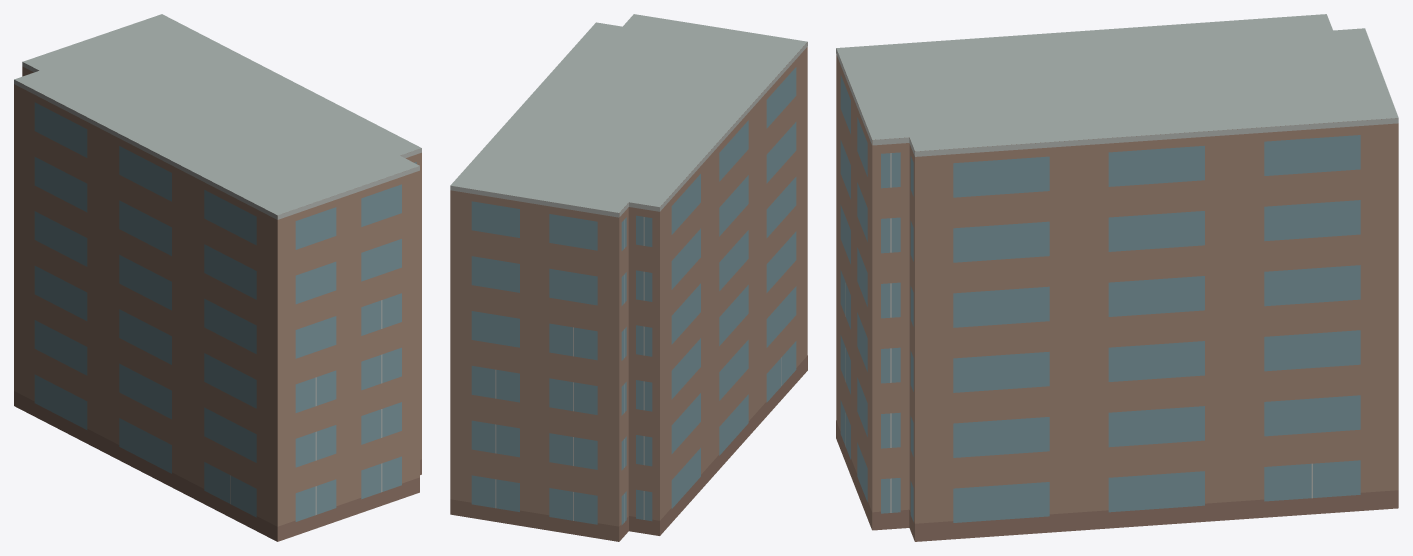
Rendered from survey-upis-32960754.glb.
3 views of the same model, side by side, from view 1: azimuth 30°, elevation 25°; view 2: azimuth 150°, elevation 25°; view 3: azimuth 270°, elevation 25° (orthographic). The views are drawn at different scales.
Parts seen in each view (by area): view 1: survey-upis-32960754.tmp; view 2: survey-upis-32960754.tmp; view 3: survey-upis-32960754.tmp.
Part boxes in pixels (box(x1,y1,x2,y2)): survey-upis-32960754.tmp: box(14, 14, 421, 541); survey-upis-32960754.tmp: box(450, 14, 807, 541); survey-upis-32960754.tmp: box(836, 14, 1398, 541).
Size of the model in its own units: 13.07 by 17.3 by 22.6.
